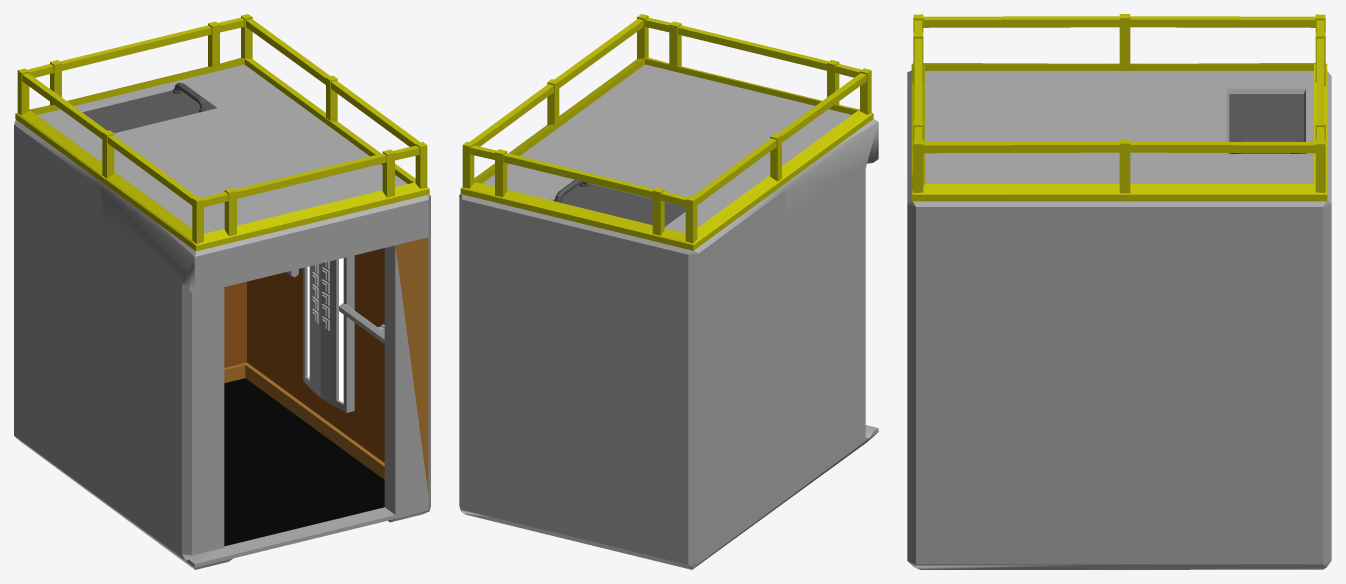
File: ElevatorArm.gltf
3 views of the same model, side by side, from view 1: azimuth 30°, elevation 25°; view 2: azimuth 150°, elevation 25°; view 3: azimuth 270°, elevation 25° (orthographic). The views are drawn at different scales.
Visible parts, largest first — view 1: Cart.001-col, SafetyRamps.001, Console.001, Trap.001, Buttons.001, Handles.001; view 2: Cart.001-col, SafetyRamps.001, Trap.001; view 3: Cart.001-col, SafetyRamps.001, Trap.001.
Boxes of the visible parts, x1,y1,x2,y2 form: Cart.001-col: (14, 64, 430, 569); SafetyRamps.001: (15, 14, 429, 251); Console.001: (303, 255, 354, 412); Trap.001: (82, 82, 211, 133); Buttons.001: (312, 261, 329, 330); Handles.001: (286, 269, 384, 343); Cart.001-col: (459, 64, 878, 569); SafetyRamps.001: (460, 14, 873, 250); Trap.001: (553, 179, 685, 226); Cart.001-col: (907, 70, 1331, 569); SafetyRamps.001: (911, 14, 1327, 201); Trap.001: (1229, 94, 1303, 153).
Bounding box in the file's own units: 2.32 × 3.43 × 3.09.
